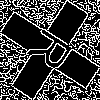R: (25, 25, 83, 80)
